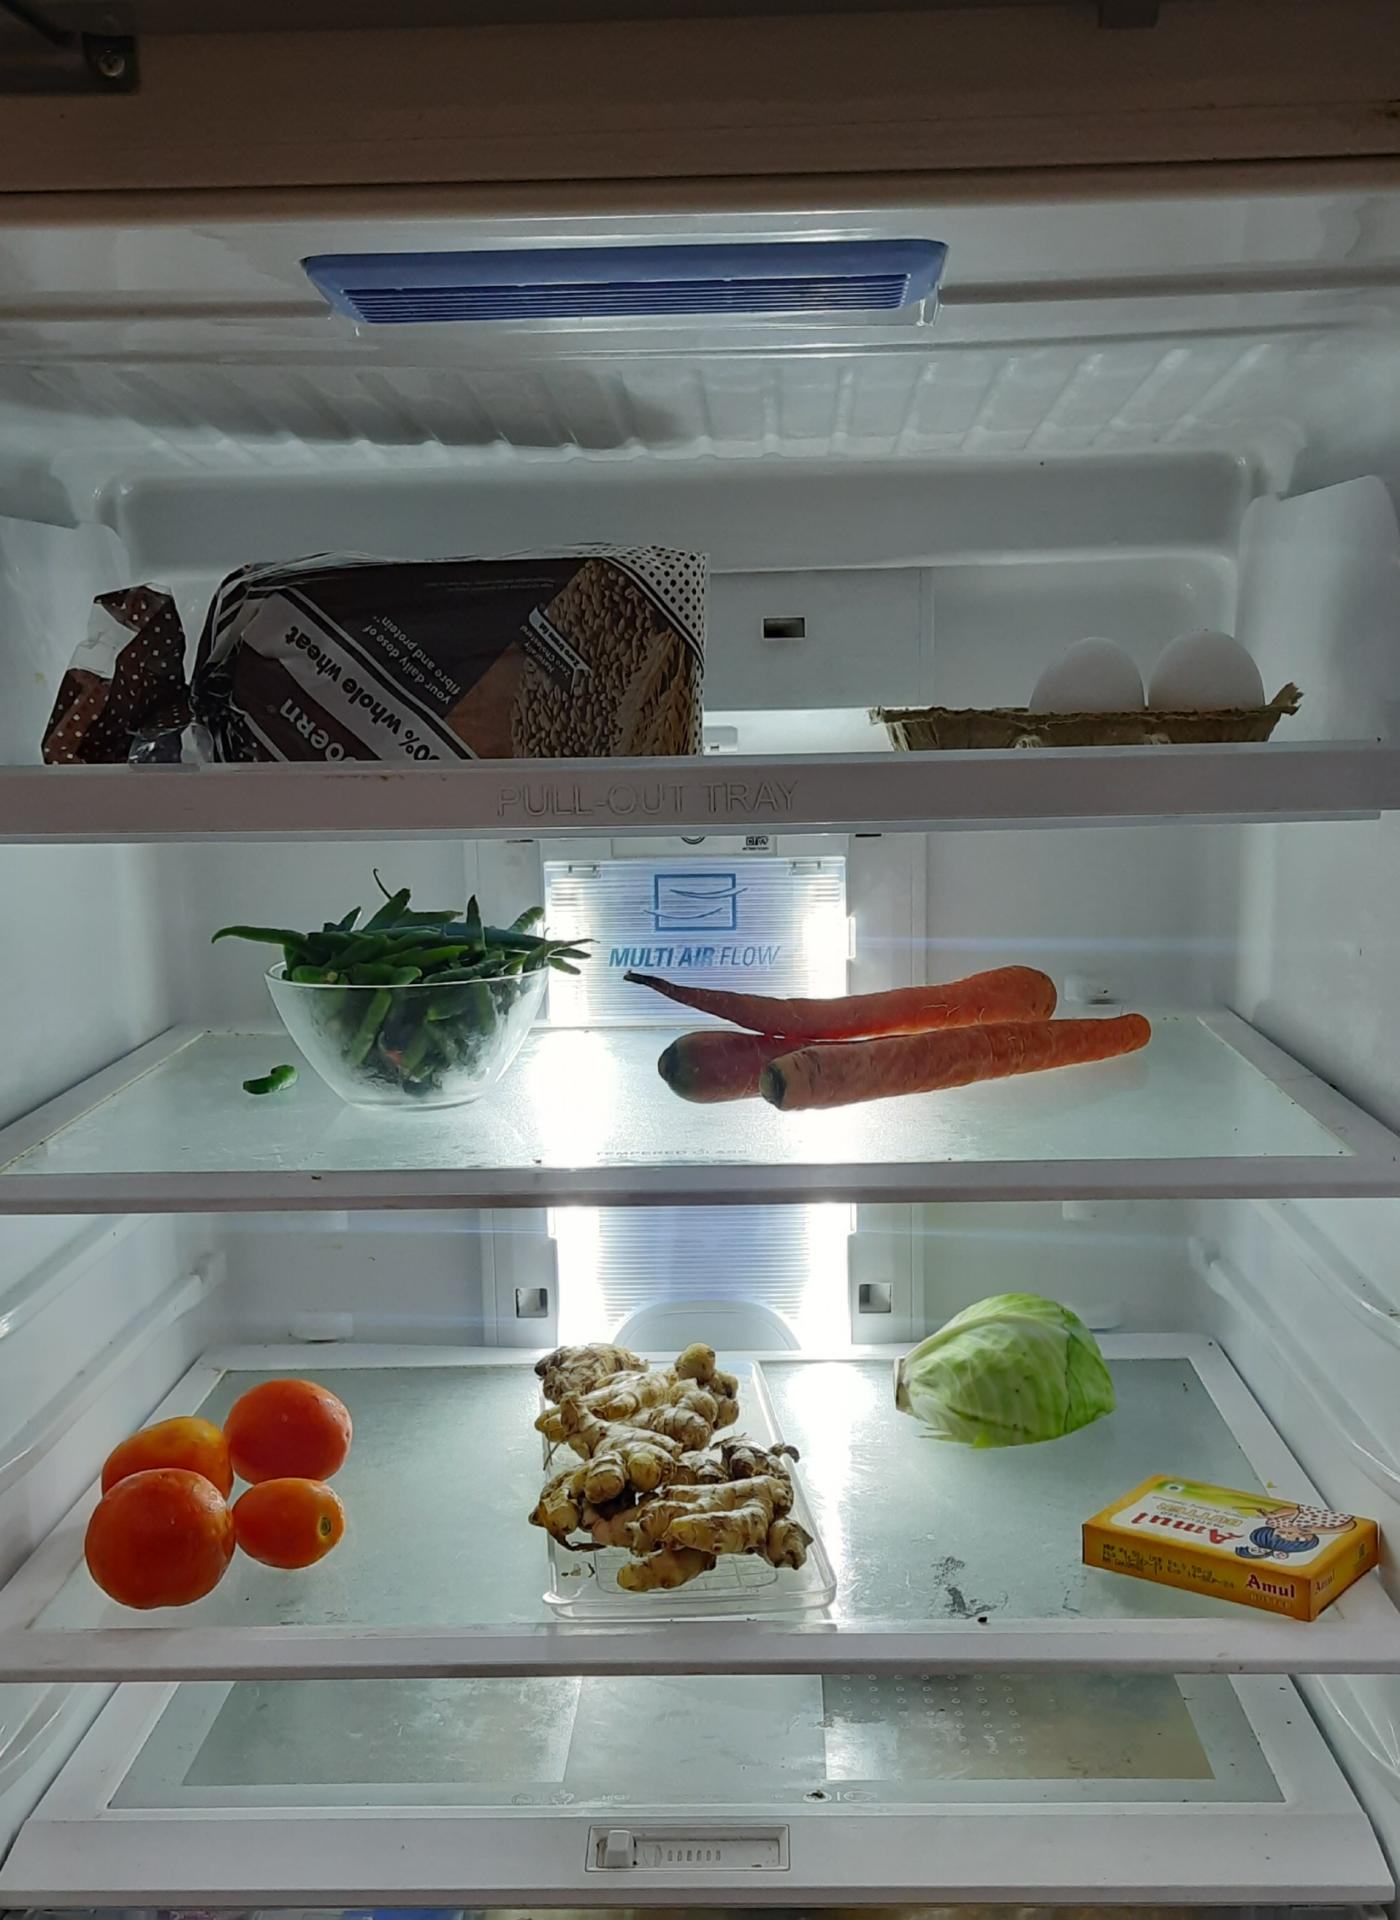bread: (40, 543, 705, 753)
butter: (1073, 1474, 1384, 1619)
cabbage: (887, 1292, 1114, 1446)
carrots: (635, 966, 1153, 1120)
chillies: (285, 899, 558, 1094)
egg: (1033, 623, 1281, 732)
ginger: (537, 1327, 817, 1577)
tomato: (83, 1379, 353, 1607)
